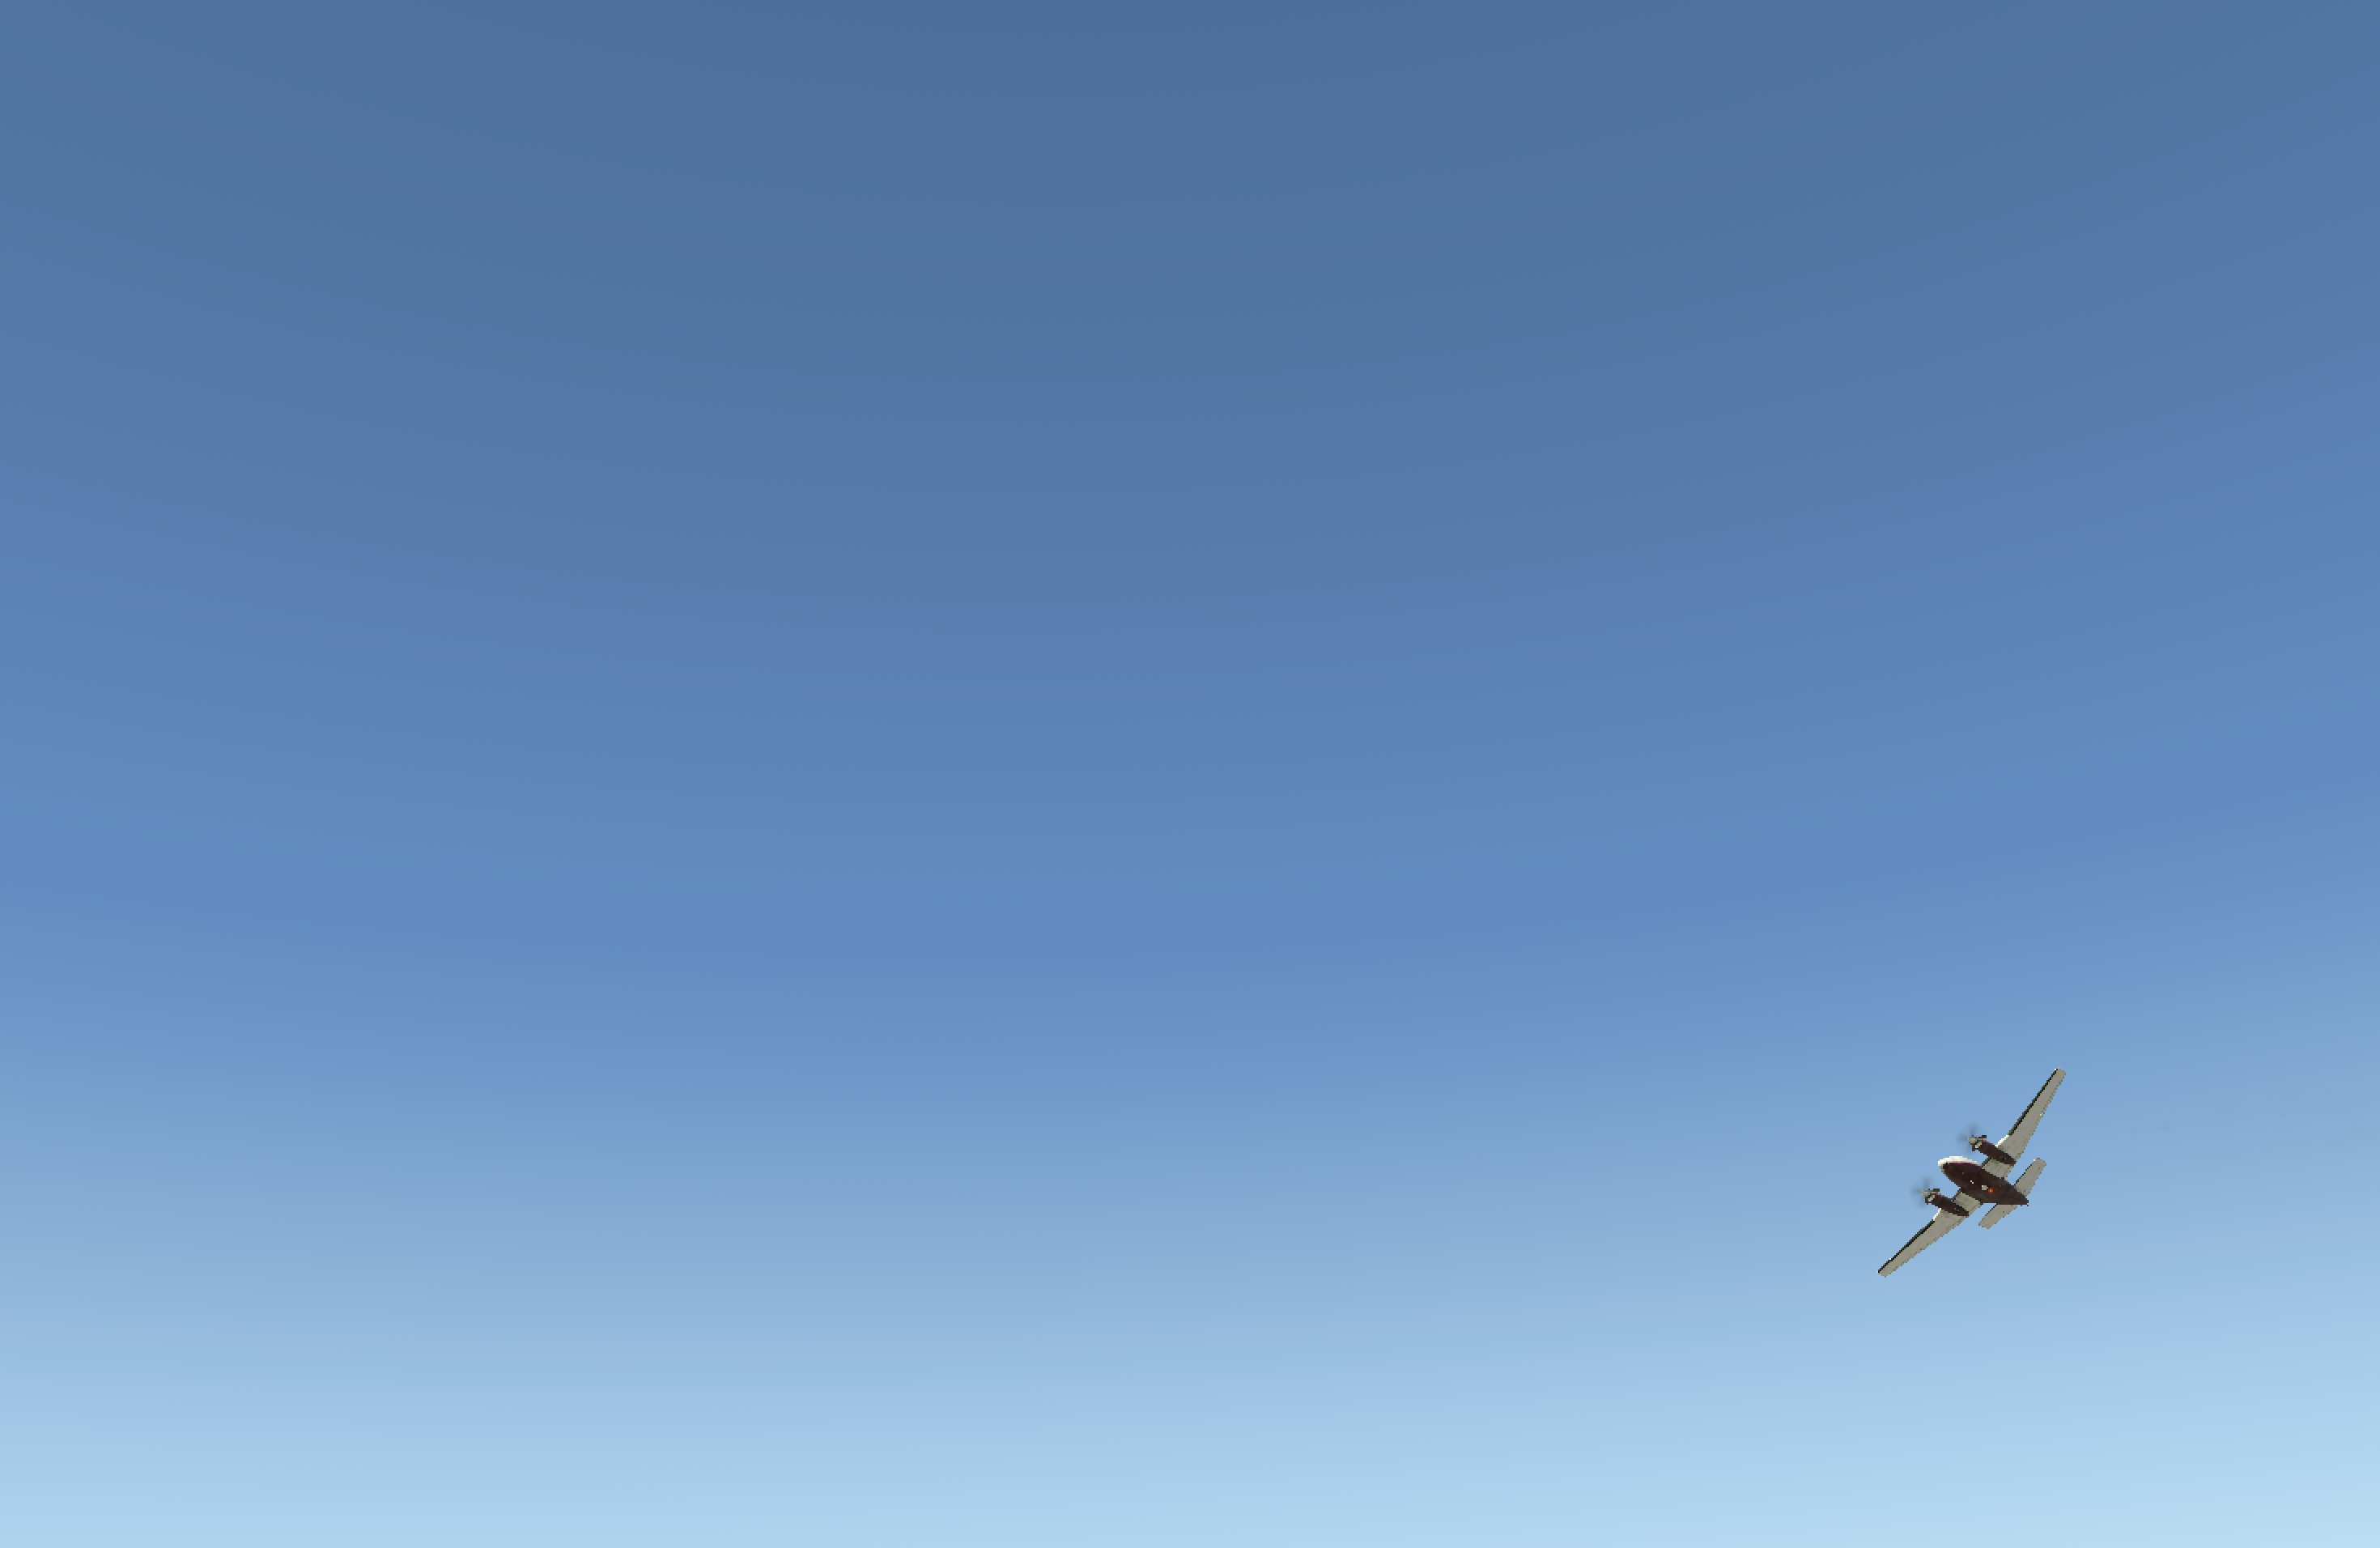aircraft: (1847, 1135, 2108, 1232)
